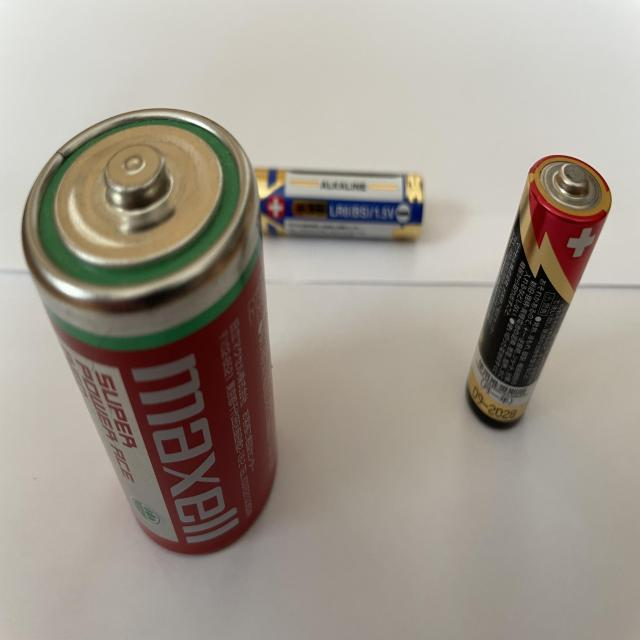AA: (462, 148, 614, 434)
